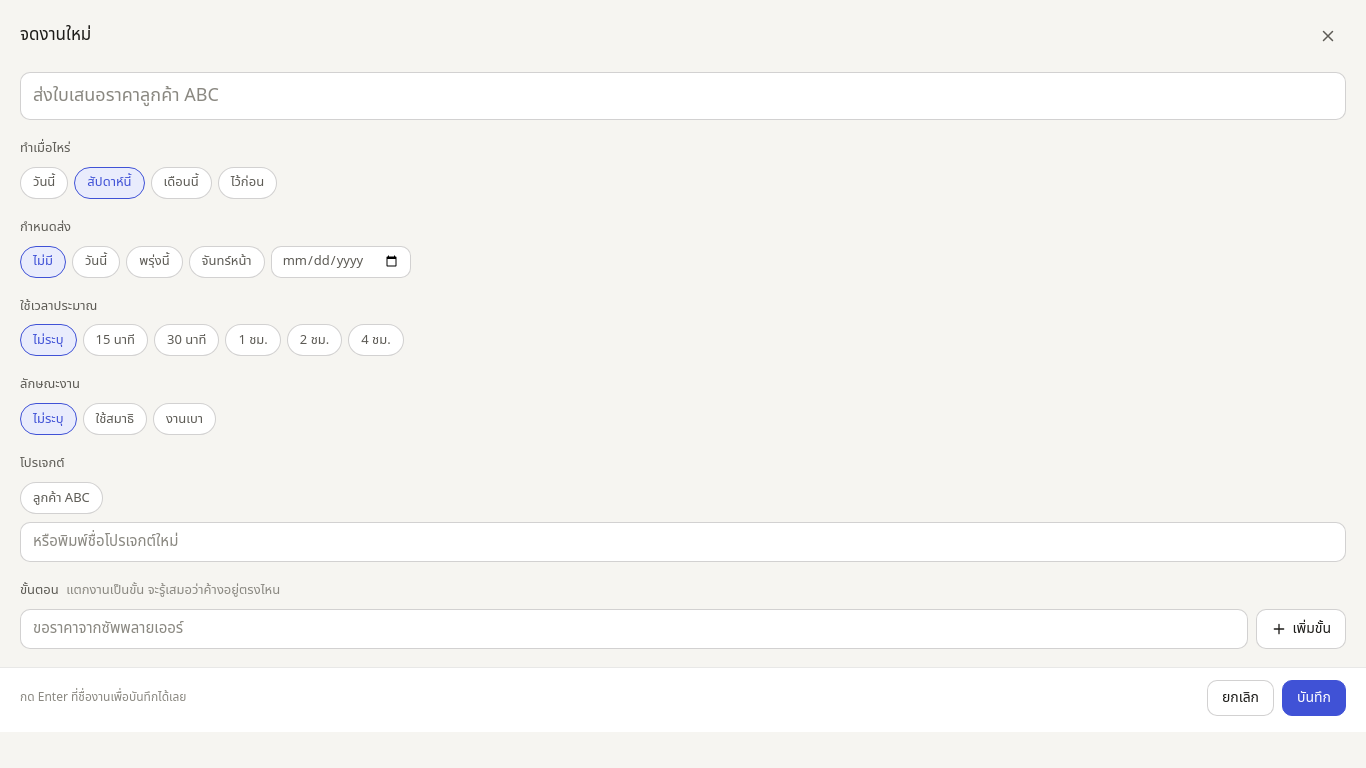
it: CaptureForm › shows an inline error and does not save when the title is empty
This screenshot has width=1366, height=768.
Click the button "บันทึก": x=1314, y=698 [1282, 680, 1346, 716]
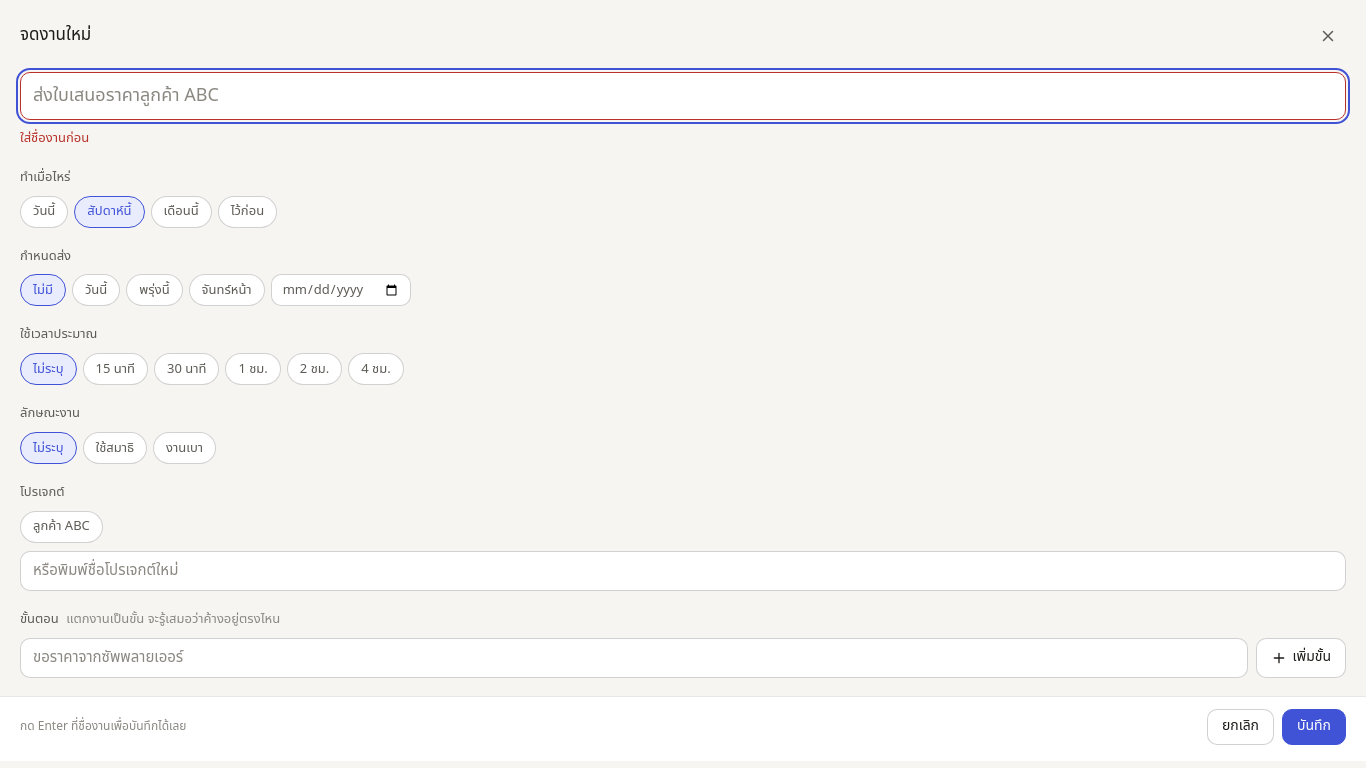
Expected: the message reads "ใส่ชื่องานก่อน", [20, 128, 89, 148]
In the field named "ชื่องาน": x=683, y=96 [20, 72, 1346, 120], type "ก"
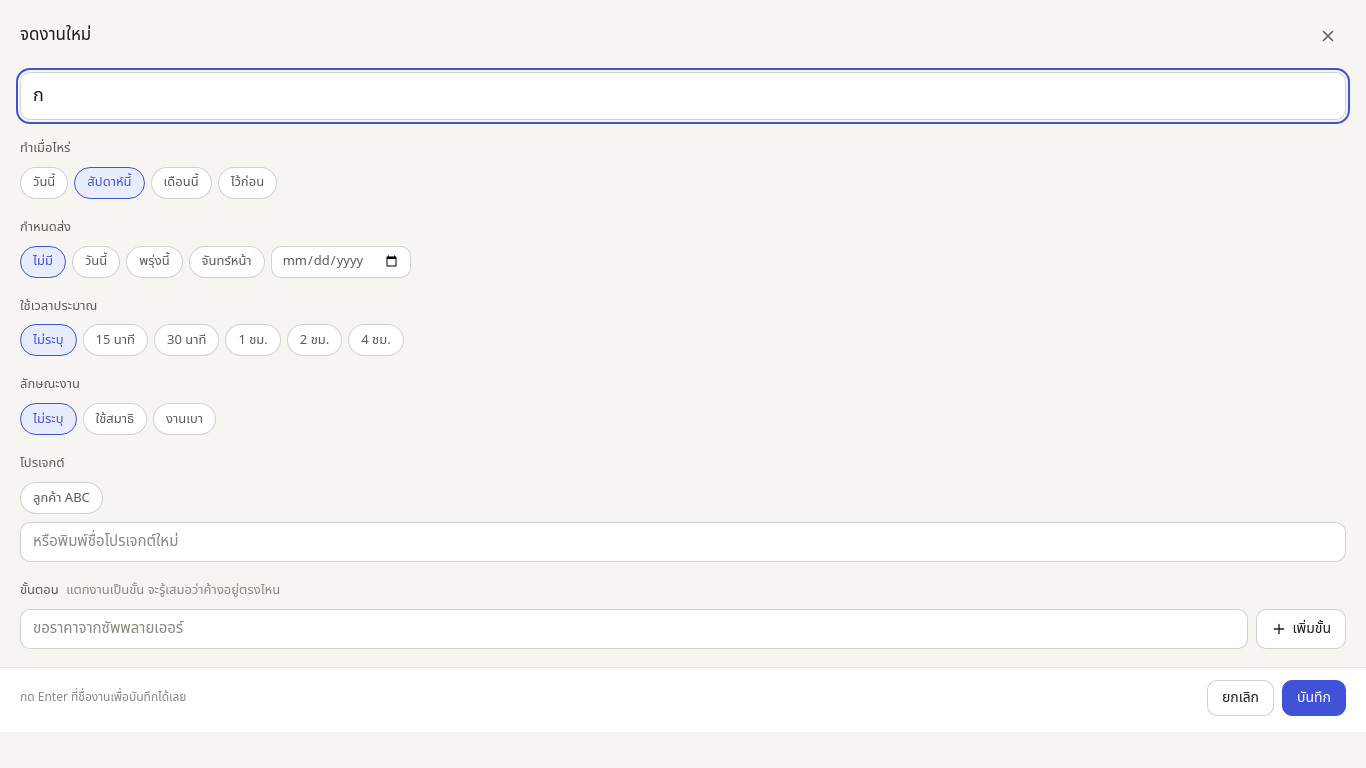
Expected: the message "ใส่ชื่องานก่อน" is gone
